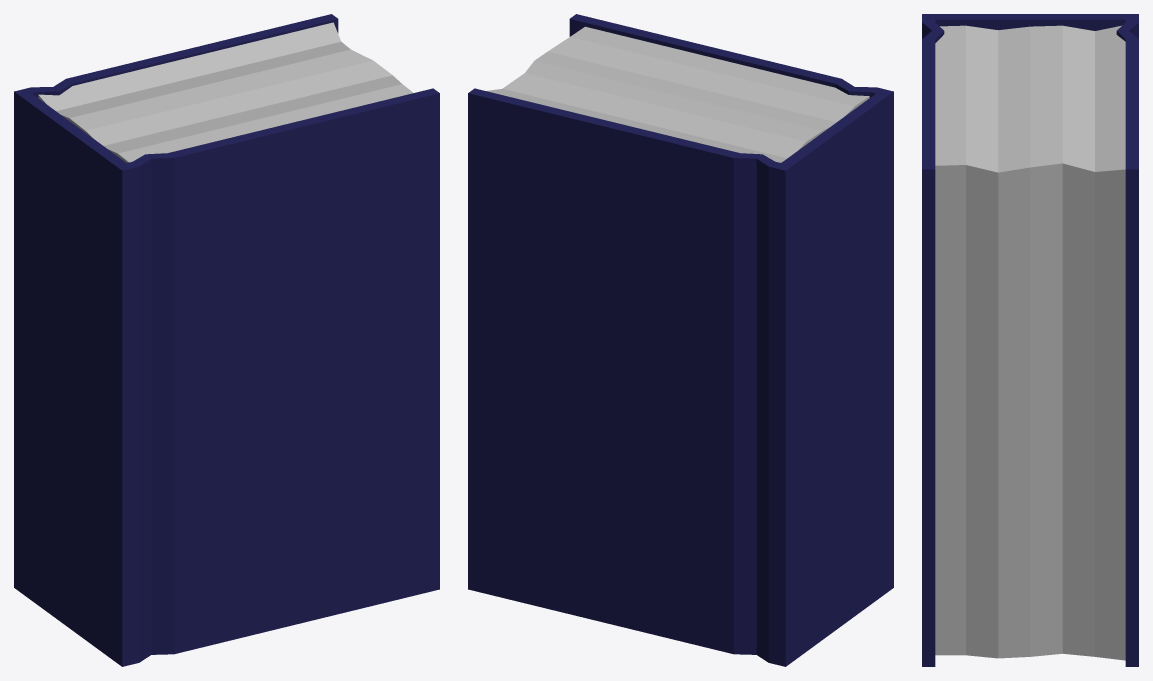
Rendered from BlueBook.fbx.
3 views of the same model, side by side, from view 1: azimuth 30°, elevation 25°; view 2: azimuth 150°, elevation 25°; view 3: azimuth 270°, elevation 25° (orthographic).
Visible parts, largest first — view 1: BlueBook; view 2: BlueBook; view 3: BlueBook.
Boxes of the visible parts, <box> form: BlueBook: <box>14,14,439,666</box>; BlueBook: <box>468,14,893,666</box>; BlueBook: <box>922,14,1138,666</box>.
Bounding box in the file's own units: 56.02 × 83.62 × 33.05.
